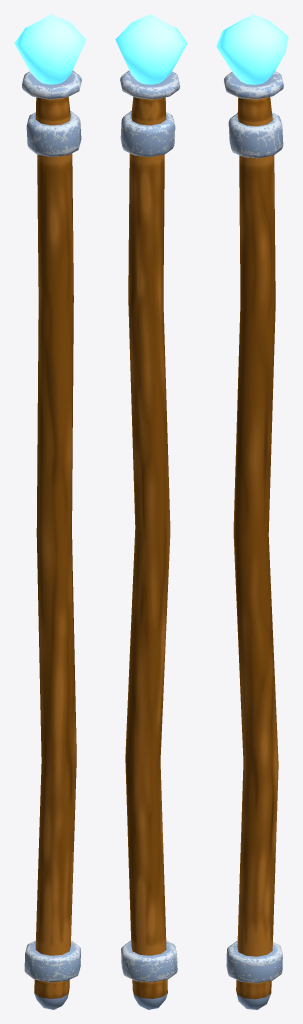
Rendered from bastonMagia.fbx.
3 renders of one model, left to right at view 1: azimuth 30°, elevation 25°; view 2: azimuth 150°, elevation 25°; view 3: azimuth 330°, elevation 25°, orthographic.
Visible parts, largest first — view 1: staff_low; view 2: staff_low; view 3: staff_low.
Boxes of the visible parts, x1,y1,x2,y2 form: staff_low: (14,14,86,1009); staff_low: (115,14,187,1009); staff_low: (216,14,288,1009).
Size of the model in its own units: 19.87 by 300 by 19.37.
Materials: 1 (1 with a texture image).
